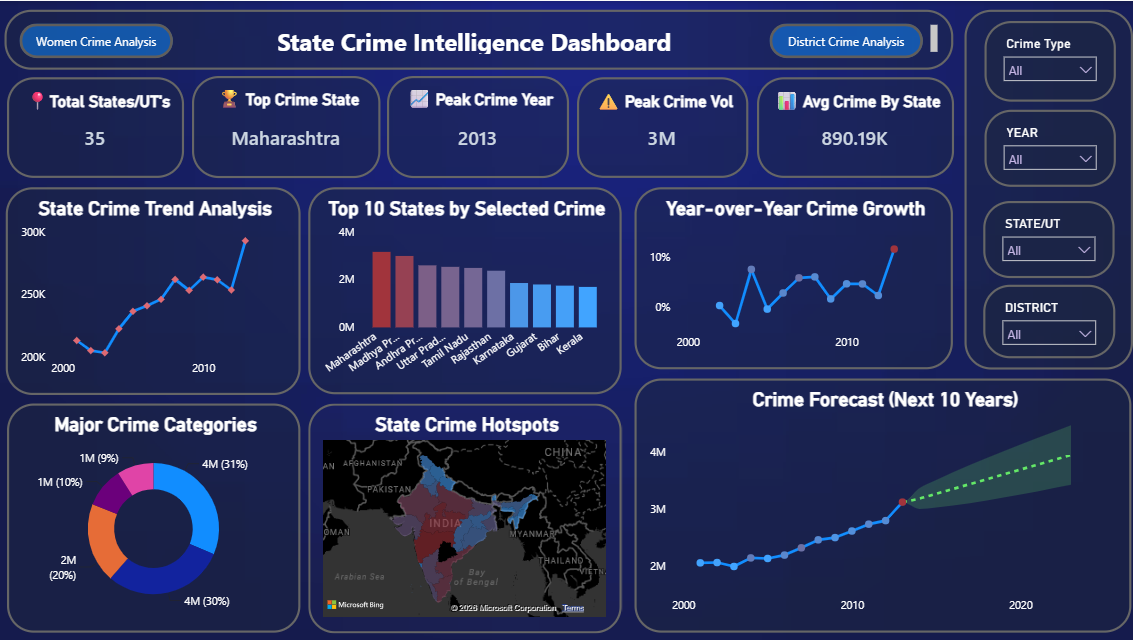

The page's visual inventory and layout, read from the dashboard file:
{"tool":"powerbi","page":{"name":"State Crime Intelligence Dashboard","canvas":[1280,720],"ordinal":2},"visuals":[{"type":"cardVisual","title":"🏆 Top Crime State","fields":{"Data":["Crime Type.Highest Crime State"]},"box":[218,84.2,211.1,114.5],"z":0},{"type":"cardVisual","title":"⚠️ Peak Crime Vol","fields":{"Data":["Crime Type.Peak Crime Volume"]},"box":[649.8,85.5,191.8,113.1],"z":1000},{"type":"cardVisual","title":"📍Total States/UT''s","fields":{"Data":["DATA TABLE.Distinct States/UT"]},"box":[11,85.5,198.7,113.1],"z":2000},{"type":"textbox","box":[8.9,10.4,1063.2,66.9],"z":3000},{"type":"shape","box":[1084,10.4,188.8,403],"z":4000},{"type":"slicer","fields":{"Values":["DATA TABLE.YEAR"]},"box":[1106.3,121.9,147.2,86.2],"z":5000},{"type":"slicer","fields":{"Values":["DATA TABLE.DISTRICT"]},"box":[1105.8,318.3,148,82.4],"z":6000},{"type":"lineChart","title":"State Crime Trend Analysis","fields":{"Category":["DATA TABLE.YEAR"],"Y":["Crime Type.Selected Crime Value"],"Series":["DATA TABLE.STATE/UT"]},"box":[9.5,208.4,330.2,232.8],"z":7000},{"type":"columnChart","title":" Top 10 States by Selected Crime","fields":{"Category":["DATA TABLE.STATE/UT"],"Y":["Crime Type.Selected Crime Value"]},"box":[348.4,208.5,351.2,232.3],"z":8000},{"type":"filledMap","title":"State Crime Hotspots","fields":{"Category":["DATA TABLE.STATE/UT"]},"box":[348.4,450.5,351.2,257.5],"z":9000},{"type":"cardVisual","title":"📈 Peak Crime Year","fields":{"Data":["Crime Type.Peak Crime Year"]},"box":[437.3,84.2,204.2,114.5],"z":10000},{"type":"cardVisual","title":" 📊 Avg Crime By State","fields":{"Data":["Crime Type.Avg Crime per State"]},"box":[851.2,85.5,220.7,113.1],"z":11000},{"type":"lineChart","title":"Year-over-Year Crime Growth","fields":{"Category":["DATA TABLE.YEAR"],"Y":["Crime Type.Yearly Crime Growth %"]},"box":[715,208.5,356.8,204.3],"z":12000},{"type":"donutChart","title":"Major Crime Categories","fields":{"Category":["Crime Type.Crime Type"],"Y":["Crime Type.Selected Crime Value"]},"box":[10.8,451.5,328.5,256.9],"z":13000},{"type":"slicer","fields":{"Values":["Crime Type.Crime Type"]},"box":[1106.3,22.3,147.2,90.7],"z":14000},{"type":"lineChart","title":"Crime Forecast (Next 10 Years)","fields":{"Category":["DATA TABLE.YEAR"],"Y":["Crime Type.Selected Crime Value"]},"box":[714.8,423,557.1,284.8],"z":15000},{"type":"slicer","fields":{"Values":["DATA TABLE.STATE/UT"]},"box":[1105.4,223.9,146.9,86.8],"z":16000},{"type":"actionButton","box":[25,25,172,38.8],"z":17000},{"type":"actionButton","box":[865.5,25,172,38.8],"z":18000}]}

Visuals, with their boxes in screenshot pixels (x1, y1, x2, y2), scaled from the page's 1280x720 canvas onto the 1133x640 screenshot:
"🏆 Top Crime State" cardVisual: {"x1": 193, "y1": 75, "x2": 380, "y2": 177}
"⚠️ Peak Crime Vol" cardVisual: {"x1": 575, "y1": 76, "x2": 745, "y2": 177}
"📍Total States/UT''s" cardVisual: {"x1": 10, "y1": 76, "x2": 186, "y2": 177}
textbox: {"x1": 8, "y1": 9, "x2": 949, "y2": 69}
shape: {"x1": 960, "y1": 9, "x2": 1127, "y2": 367}
slicer - DATA TABLE.YEAR: {"x1": 979, "y1": 108, "x2": 1110, "y2": 185}
slicer - DATA TABLE.DISTRICT: {"x1": 979, "y1": 283, "x2": 1110, "y2": 356}
"State Crime Trend Analysis" lineChart: {"x1": 8, "y1": 185, "x2": 301, "y2": 392}
" Top 10 States by Selected Crime" columnChart: {"x1": 308, "y1": 185, "x2": 619, "y2": 392}
"State Crime Hotspots" filledMap: {"x1": 308, "y1": 400, "x2": 619, "y2": 629}
"📈 Peak Crime Year" cardVisual: {"x1": 387, "y1": 75, "x2": 568, "y2": 177}
" 📊 Avg Crime By State" cardVisual: {"x1": 753, "y1": 76, "x2": 949, "y2": 177}
"Year-over-Year Crime Growth" lineChart: {"x1": 633, "y1": 185, "x2": 949, "y2": 367}
"Major Crime Categories" donutChart: {"x1": 10, "y1": 401, "x2": 300, "y2": 630}
slicer - Crime Type.Crime Type: {"x1": 979, "y1": 20, "x2": 1110, "y2": 100}
"Crime Forecast (Next 10 Years)" lineChart: {"x1": 633, "y1": 376, "x2": 1126, "y2": 629}
slicer - DATA TABLE.STATE/UT: {"x1": 978, "y1": 199, "x2": 1108, "y2": 276}
actionButton: {"x1": 22, "y1": 22, "x2": 174, "y2": 57}
actionButton: {"x1": 766, "y1": 22, "x2": 918, "y2": 57}
